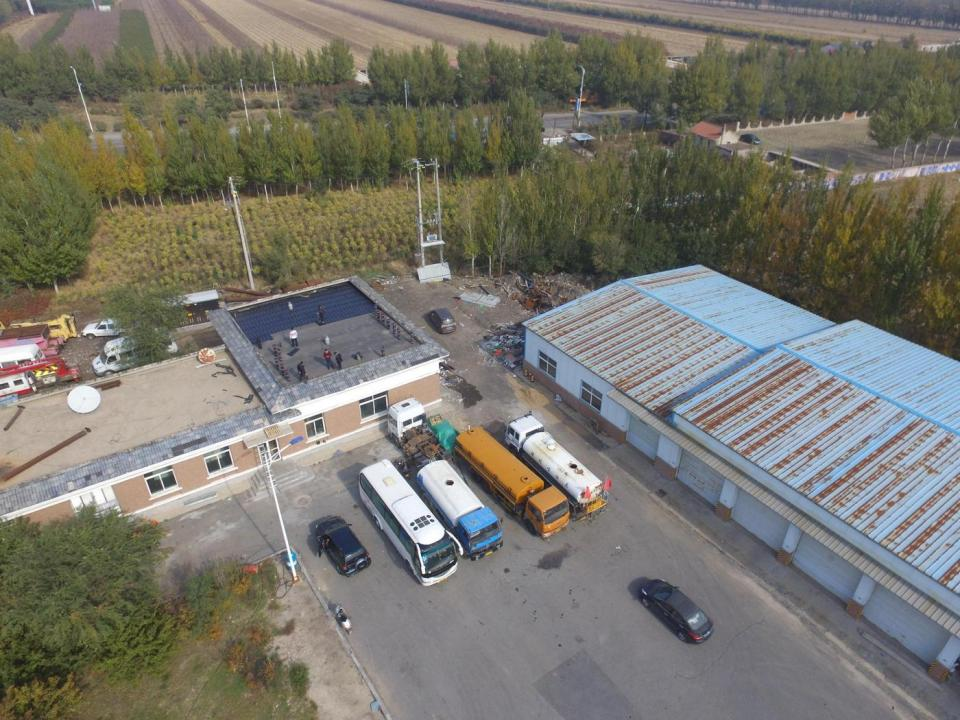bus: (358, 458, 463, 588)
car: (639, 578, 714, 644), (314, 516, 370, 576), (81, 317, 137, 336), (812, 42, 868, 59), (429, 308, 456, 333), (741, 134, 761, 146)
truck: (456, 423, 572, 538), (505, 412, 611, 523), (417, 459, 503, 561), (388, 398, 451, 467), (0, 353, 82, 401), (0, 325, 64, 357), (0, 317, 80, 341)
van: (90, 330, 178, 376), (0, 343, 48, 373)
